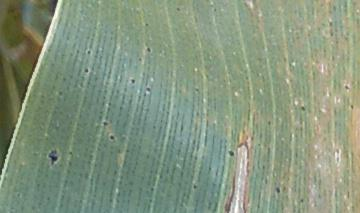tarspot: (48, 148, 59, 165), (342, 82, 351, 92), (227, 148, 236, 157), (84, 47, 92, 55), (108, 133, 116, 141), (174, 5, 182, 13), (327, 19, 334, 28), (67, 149, 75, 156), (129, 76, 136, 84), (145, 85, 152, 93), (145, 45, 152, 53), (275, 186, 282, 194), (299, 105, 307, 112), (84, 65, 90, 74), (266, 117, 272, 126), (194, 84, 200, 93), (298, 197, 305, 204), (349, 103, 355, 111), (102, 121, 109, 127), (192, 183, 198, 189), (58, 90, 64, 96), (143, 22, 150, 27), (330, 32, 335, 37)
